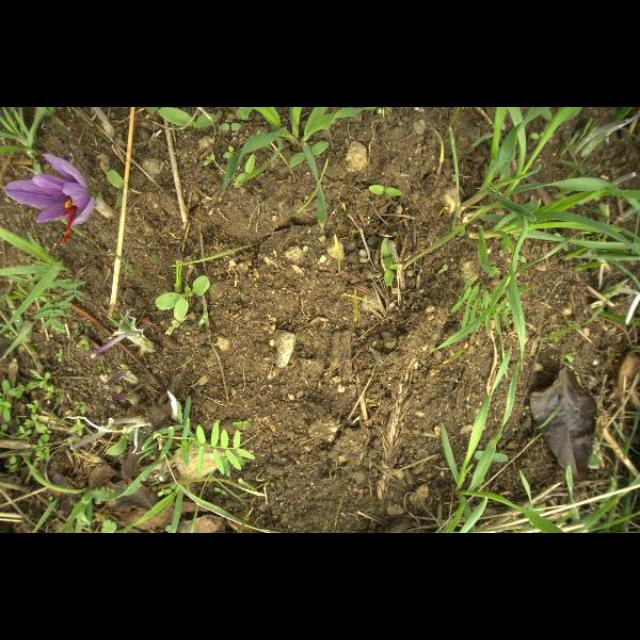flower: (3, 154, 95, 246)
